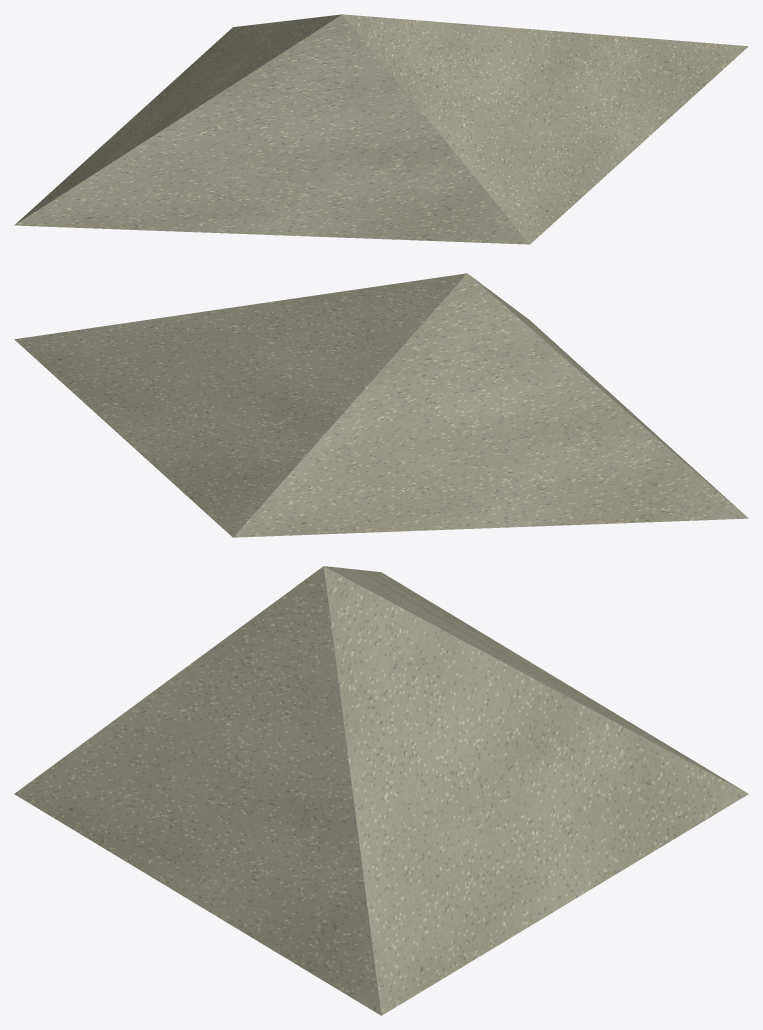
Rendered from qalat-bank-rock.glb.
3 renders of one model, top to bottom at view 1: azimuth 30°, elevation 25°; view 2: azimuth 150°, elevation 25°; view 3: azimuth 270°, elevation 25°, orthographic. The views are drawn at different scales.
Parts seen in each view (by area): view 1: qalat-bank-rock; view 2: qalat-bank-rock; view 3: qalat-bank-rock.
Part boxes in pixels (x1,y1,x2,y2): qalat-bank-rock: [14, 14, 748, 244]; qalat-bank-rock: [14, 273, 748, 537]; qalat-bank-rock: [14, 566, 748, 1015].
Size of the model in its own units: 2 by 0.4 by 1.4.
1 material, 1 textured.
